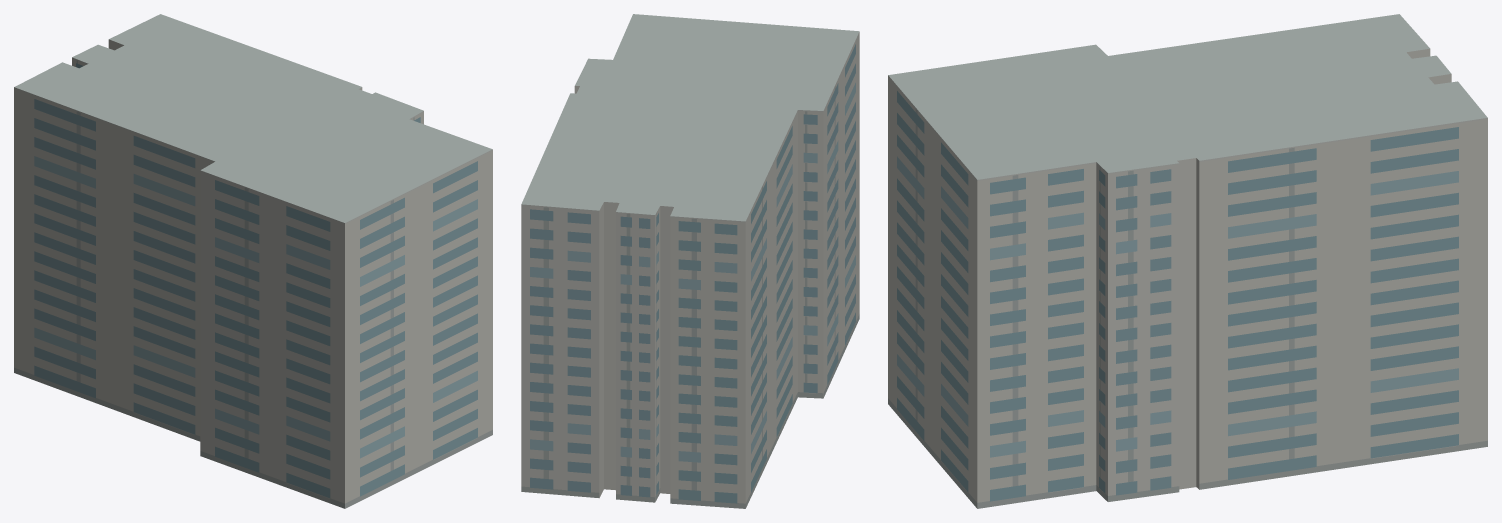
File: survey-upis-32762922.glb
3 views of the same model, side by side, from view 1: azimuth 30°, elevation 25°; view 2: azimuth 150°, elevation 25°; view 3: azimuth 270°, elevation 25° (orthographic). The views are drawn at different scales.
Visible parts, largest first — view 1: survey-upis-32762922.tmp; view 2: survey-upis-32762922.tmp; view 3: survey-upis-32762922.tmp.
Boxes of the visible parts, x1,y1,x2,y2 form: survey-upis-32762922.tmp: [14, 14, 492, 508]; survey-upis-32762922.tmp: [521, 14, 859, 508]; survey-upis-32762922.tmp: [888, 14, 1487, 508].
Bounding box in the file's own units: 78.95 × 73 × 121.
